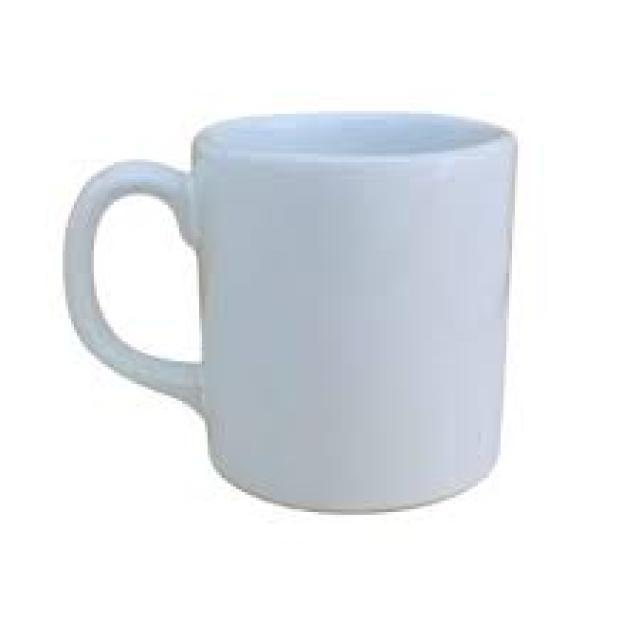taza: (61, 112, 518, 515)
